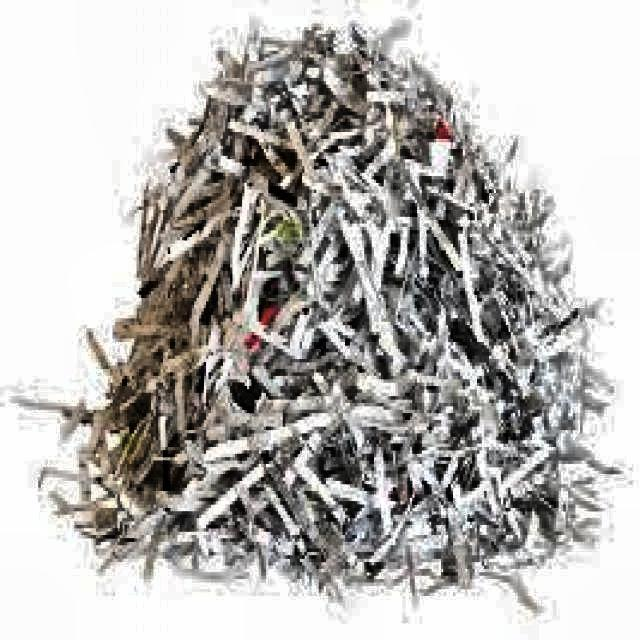Paper: (15, 14, 619, 603)
